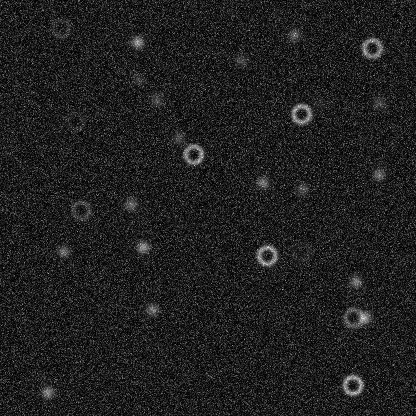Ring: (289, 239, 313, 263), (181, 142, 205, 166), (62, 109, 86, 133), (359, 36, 383, 60), (48, 16, 72, 40), (289, 101, 313, 125), (340, 372, 364, 396), (341, 305, 365, 329), (254, 243, 278, 267), (68, 198, 92, 222)
Spot: (356, 309, 372, 325), (347, 273, 363, 289), (134, 239, 150, 255), (170, 130, 186, 146), (55, 243, 71, 259), (370, 94, 386, 110), (39, 384, 55, 400), (294, 180, 310, 196), (370, 166, 386, 182), (122, 196, 138, 212), (254, 174, 270, 190), (144, 301, 160, 317), (130, 71, 146, 87), (233, 52, 249, 68), (148, 92, 164, 108), (129, 34, 145, 50), (285, 26, 301, 42), (312, 95, 328, 111)
